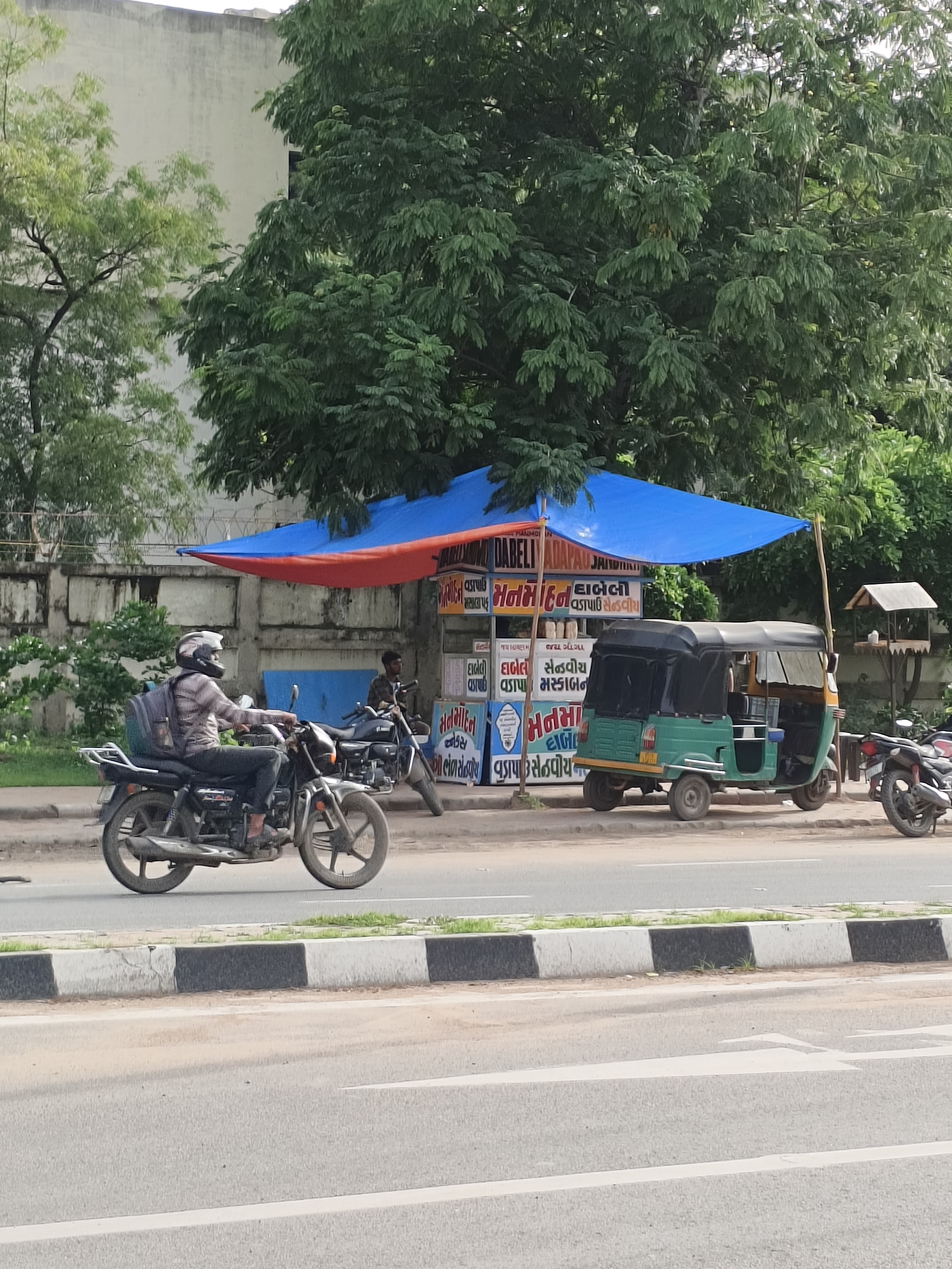BikeWithRider: (77, 630, 392, 897)
Helmet: (173, 629, 231, 682)
